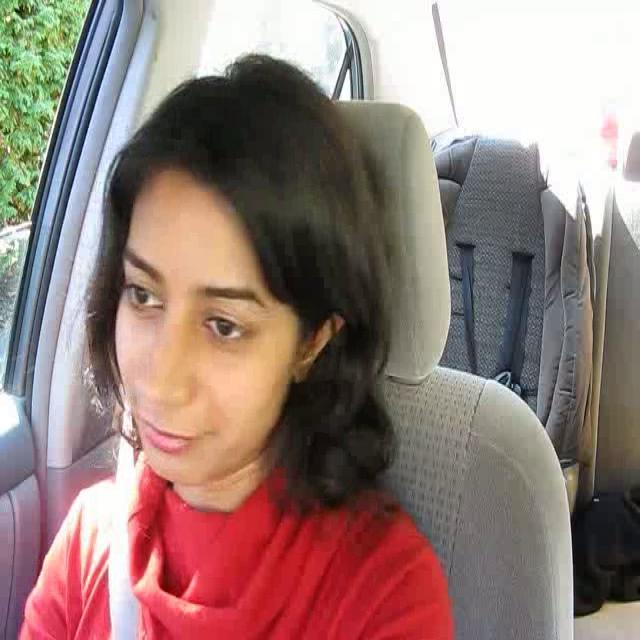open: (191, 275, 273, 362), (114, 245, 171, 321)
